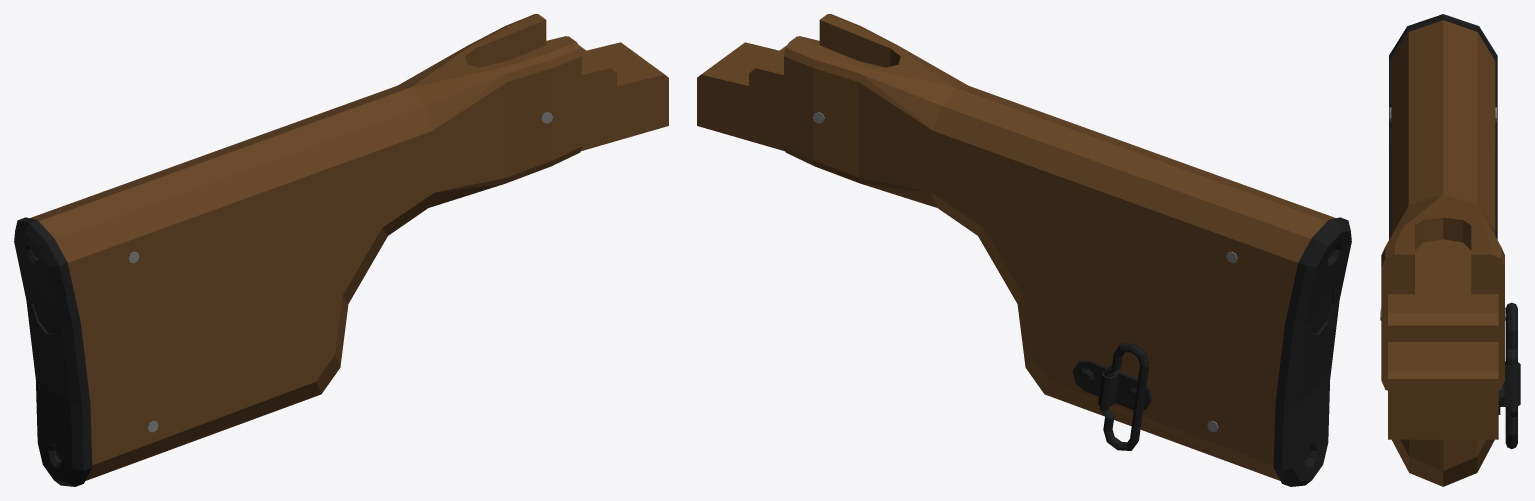
File: rpk_7.62_stock.glb
3 renders of one model, left to right at view 1: azimuth 30°, elevation 25°; view 2: azimuth 150°, elevation 25°; view 3: azimuth 270°, elevation 25°, orthographic. The views are drawn at different scales.
Parts seen in each view (by area): view 1: rpk762 stock_1 (×2); view 2: rpk762 stock_1 (×2); view 3: rpk762 stock_1 (×2).
Boxes of the visible parts, x1=… form: rpk762 stock_1 (×2): x1=14, y1=14, x2=668, y2=486; rpk762 stock_1 (×2): x1=697, y1=14, x2=1351, y2=486; rpk762 stock_1 (×2): x1=1381, y1=14, x2=1520, y2=486.
Size of the model in its own units: 2.56 by 1.32 by 0.3994.
